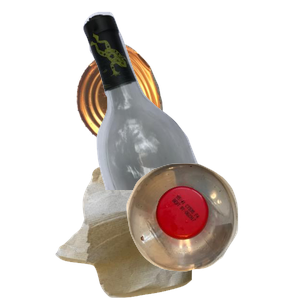glass: (81, 10, 300, 190)
metal: (74, 41, 229, 181)
plastic: (124, 161, 300, 300)
trash: (53, 121, 239, 300)
